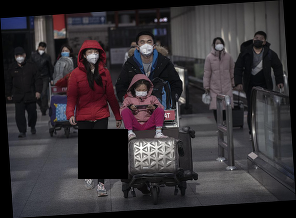with_mask: (138, 39, 155, 57), (86, 49, 100, 65), (253, 35, 265, 49), (135, 87, 148, 98), (214, 40, 225, 52), (60, 49, 71, 58), (15, 54, 26, 63), (37, 47, 46, 56)
